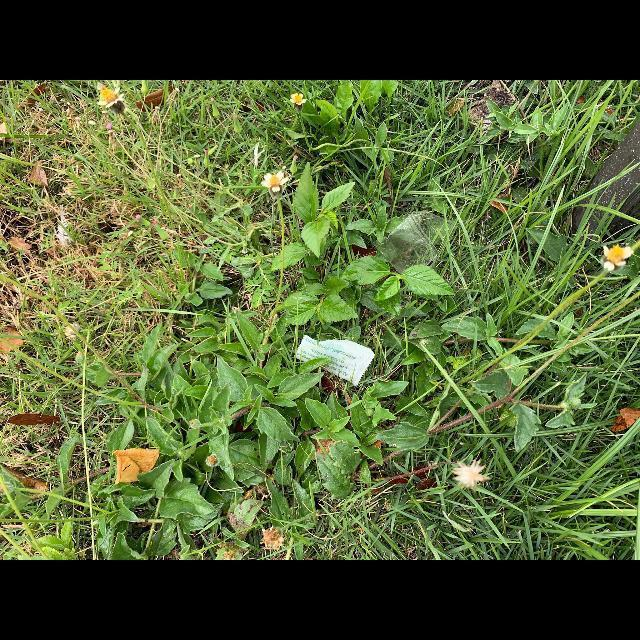Plastic: (372, 211, 460, 273), (295, 336, 375, 386)
